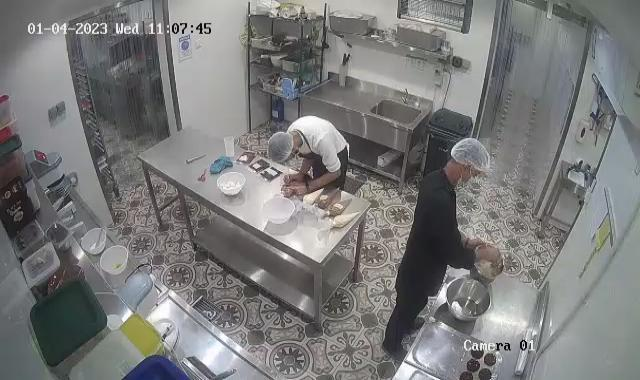gloves: (448, 139, 490, 169), (265, 132, 300, 164)
mask: (447, 168, 484, 192)
no_apron: (474, 239, 508, 265), (282, 183, 312, 199), (280, 174, 312, 187), (464, 233, 491, 248)
